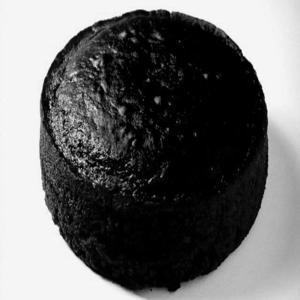bread: (31, 19, 268, 279)
